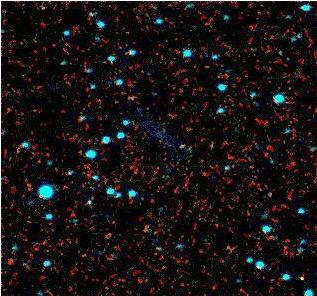star: (285, 264, 315, 294)
